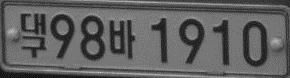0: (242, 20, 268, 67)
1: (149, 17, 173, 64), (211, 19, 235, 65)
8: (79, 15, 105, 60)
9: (178, 18, 205, 65), (50, 13, 74, 58)
대구_V: (20, 13, 47, 58)
바: (109, 19, 136, 58)
